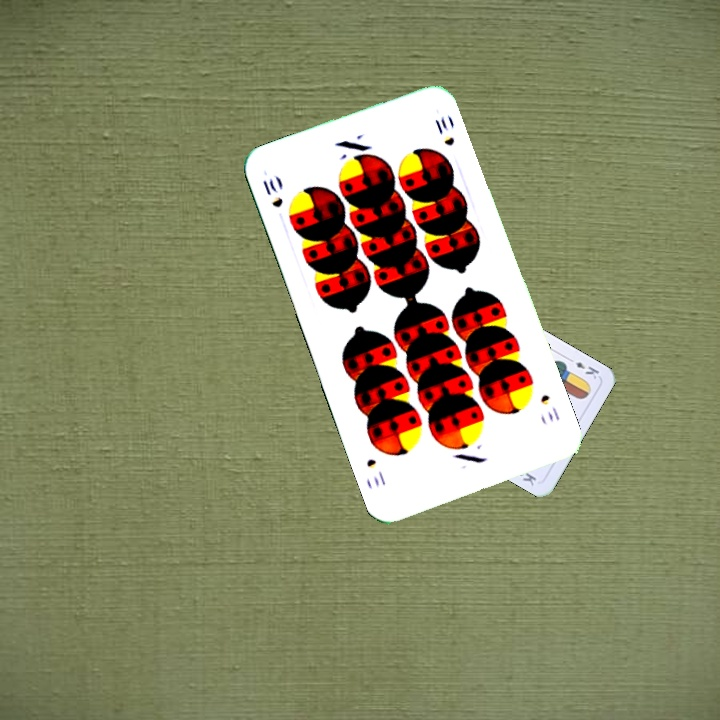EK: (563, 353, 602, 382)
S10: (259, 174, 286, 211), (536, 390, 563, 425)
